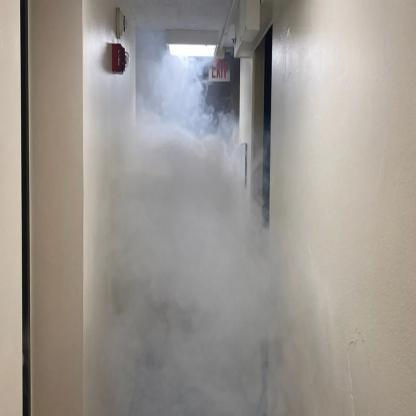smoke: (90, 6, 316, 416)
